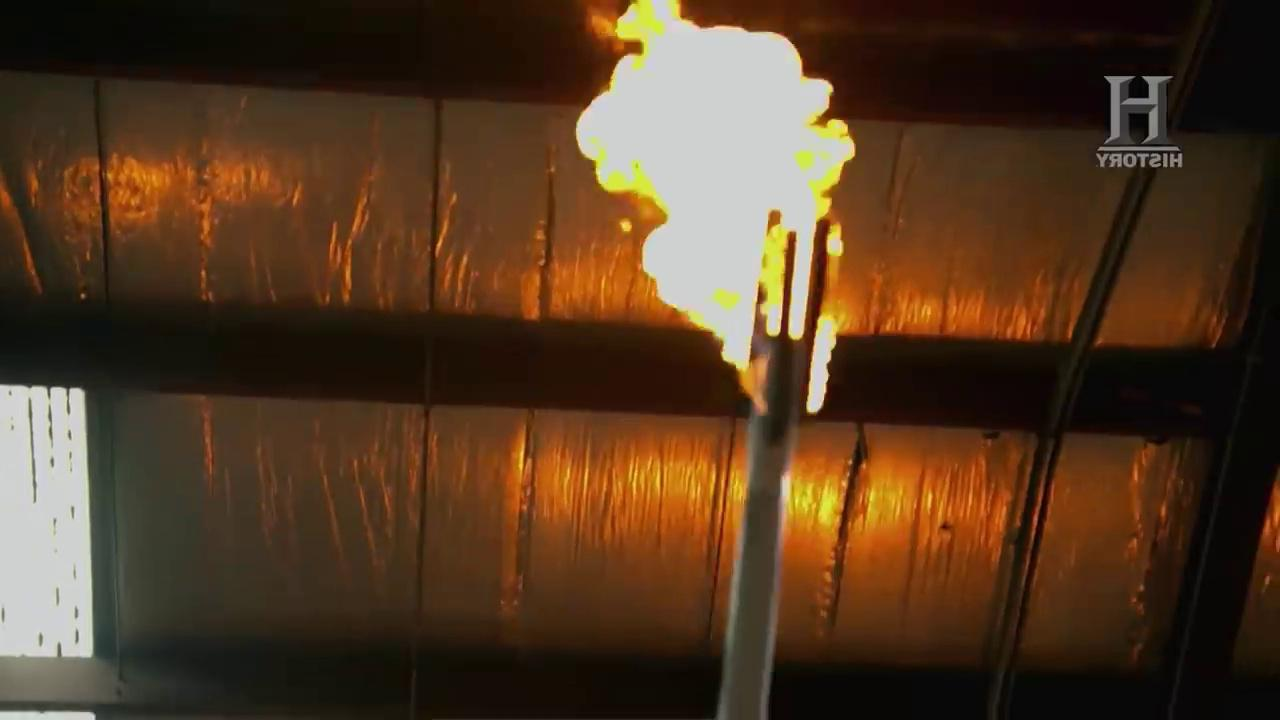Fire: (554, 15, 858, 397)
